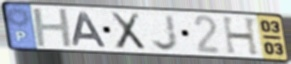2: (192, 14, 222, 55)
A: (71, 11, 109, 49)
H: (31, 7, 76, 48), (220, 16, 263, 57)
J: (150, 13, 181, 53)
X: (108, 11, 147, 52)
